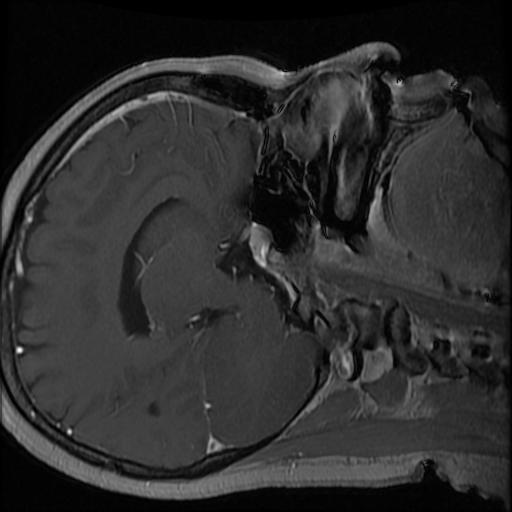pituitary tumour: (248, 222, 274, 269)
